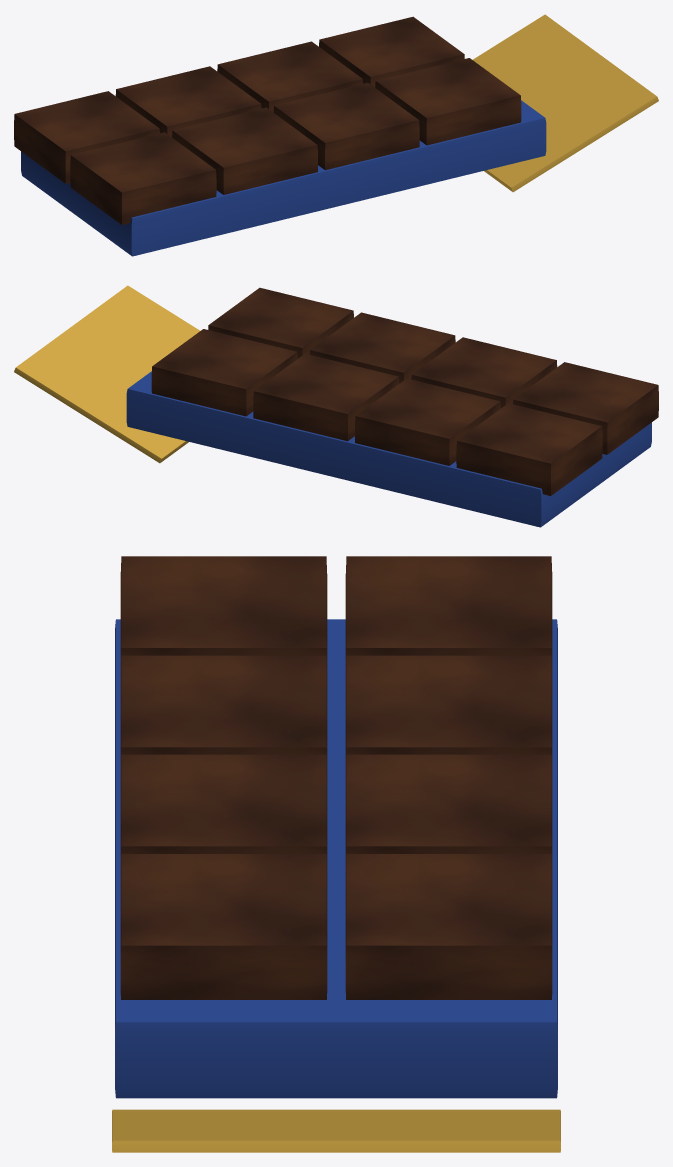
Rendered from dessert_chocolate_bar_open.glb.
3 views of the same model, one above another, from view 1: azimuth 30°, elevation 25°; view 2: azimuth 150°, elevation 25°; view 3: azimuth 270°, elevation 25° (orthographic). The views are drawn at different scales.
Parts seen in each view (by area): view 1: dessert_chocolate_bar_open; view 2: dessert_chocolate_bar_open; view 3: dessert_chocolate_bar_open.
Boxes of the visible parts, box(x1,y1,x2,y2) form: dessert_chocolate_bar_open: box(14, 14, 658, 256); dessert_chocolate_bar_open: box(14, 285, 658, 527); dessert_chocolate_bar_open: box(112, 556, 560, 1152).
Bounding box in the file's own units: 0.2064 × 0.0343 × 0.075.
Materials: 3 (1 with a texture image).
